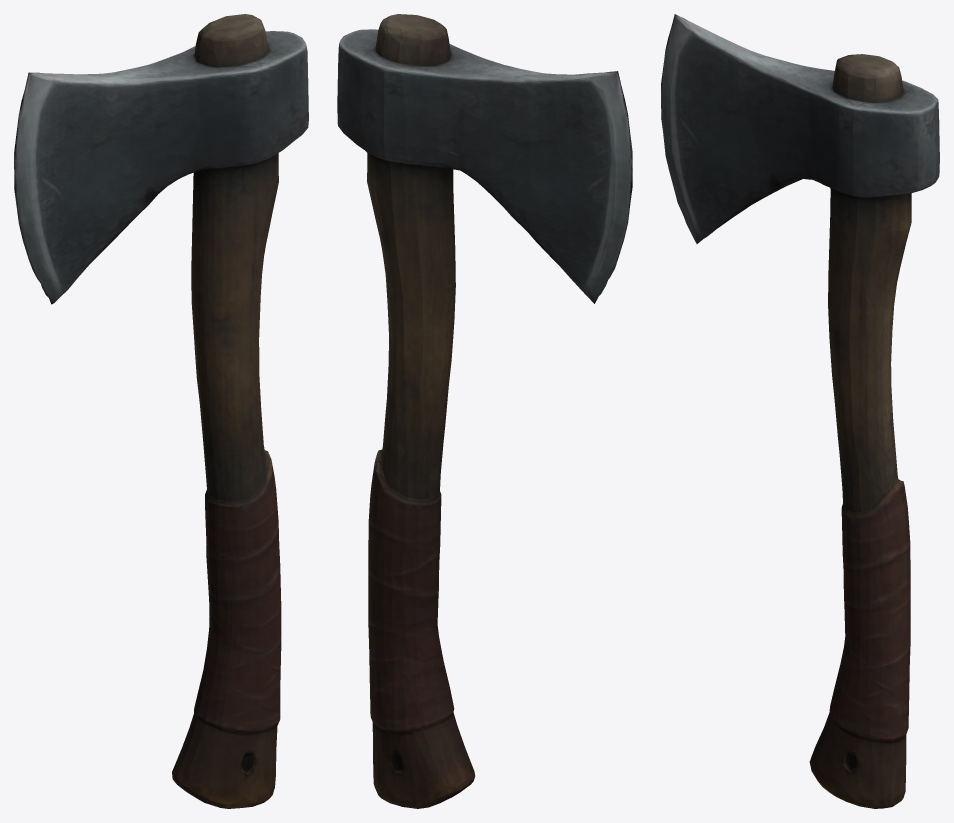
File: axe3d.glb
3 renders of one model, left to right at view 1: azimuth 30°, elevation 25°; view 2: azimuth 150°, elevation 25°; view 3: azimuth 330°, elevation 25°, orthographic. The views are drawn at different scales.
Parts seen in each view (by area): view 1: world; view 2: world; view 3: world.
Boxes of the visible parts, left/top/right/bottom form: world: left=14, top=14, right=308, bottom=808; world: left=337, top=14, right=632, bottom=808; world: left=661, top=14, right=939, bottom=808.
Size of the model in its own units: 0.3917 by 0.9997 by 0.1044.
1 material, 1 textured.
